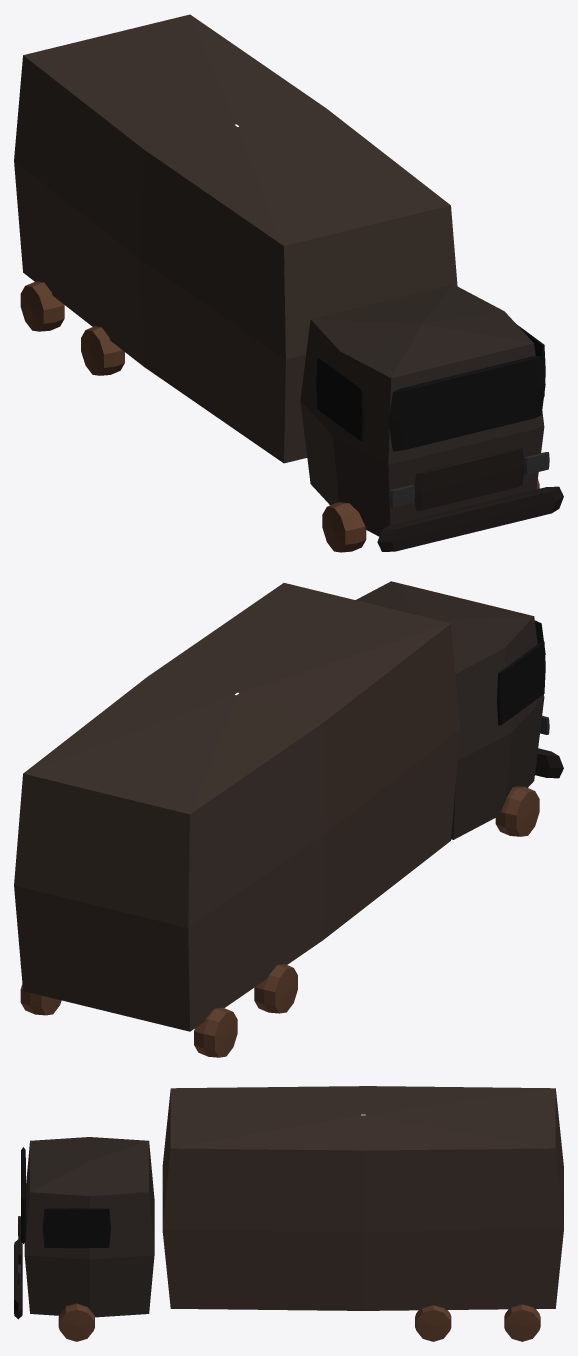
The model's file is s-burnt-truck.glb.
3 renders of one model, top to bottom at view 1: azimuth 30°, elevation 25°; view 2: azimuth 150°, elevation 25°; view 3: azimuth 270°, elevation 25°, orthographic. The views are drawn at different scales.
Visible parts, largest first — view 1: p; view 2: p; view 3: p.
Boxes of the visible parts, x1,y1,x2,y2 form: p: [14, 14, 563, 552]; p: [14, 581, 563, 1057]; p: [14, 1086, 563, 1341].
Bounding box in the file's own units: 2.62 × 3.35 × 8.64.
